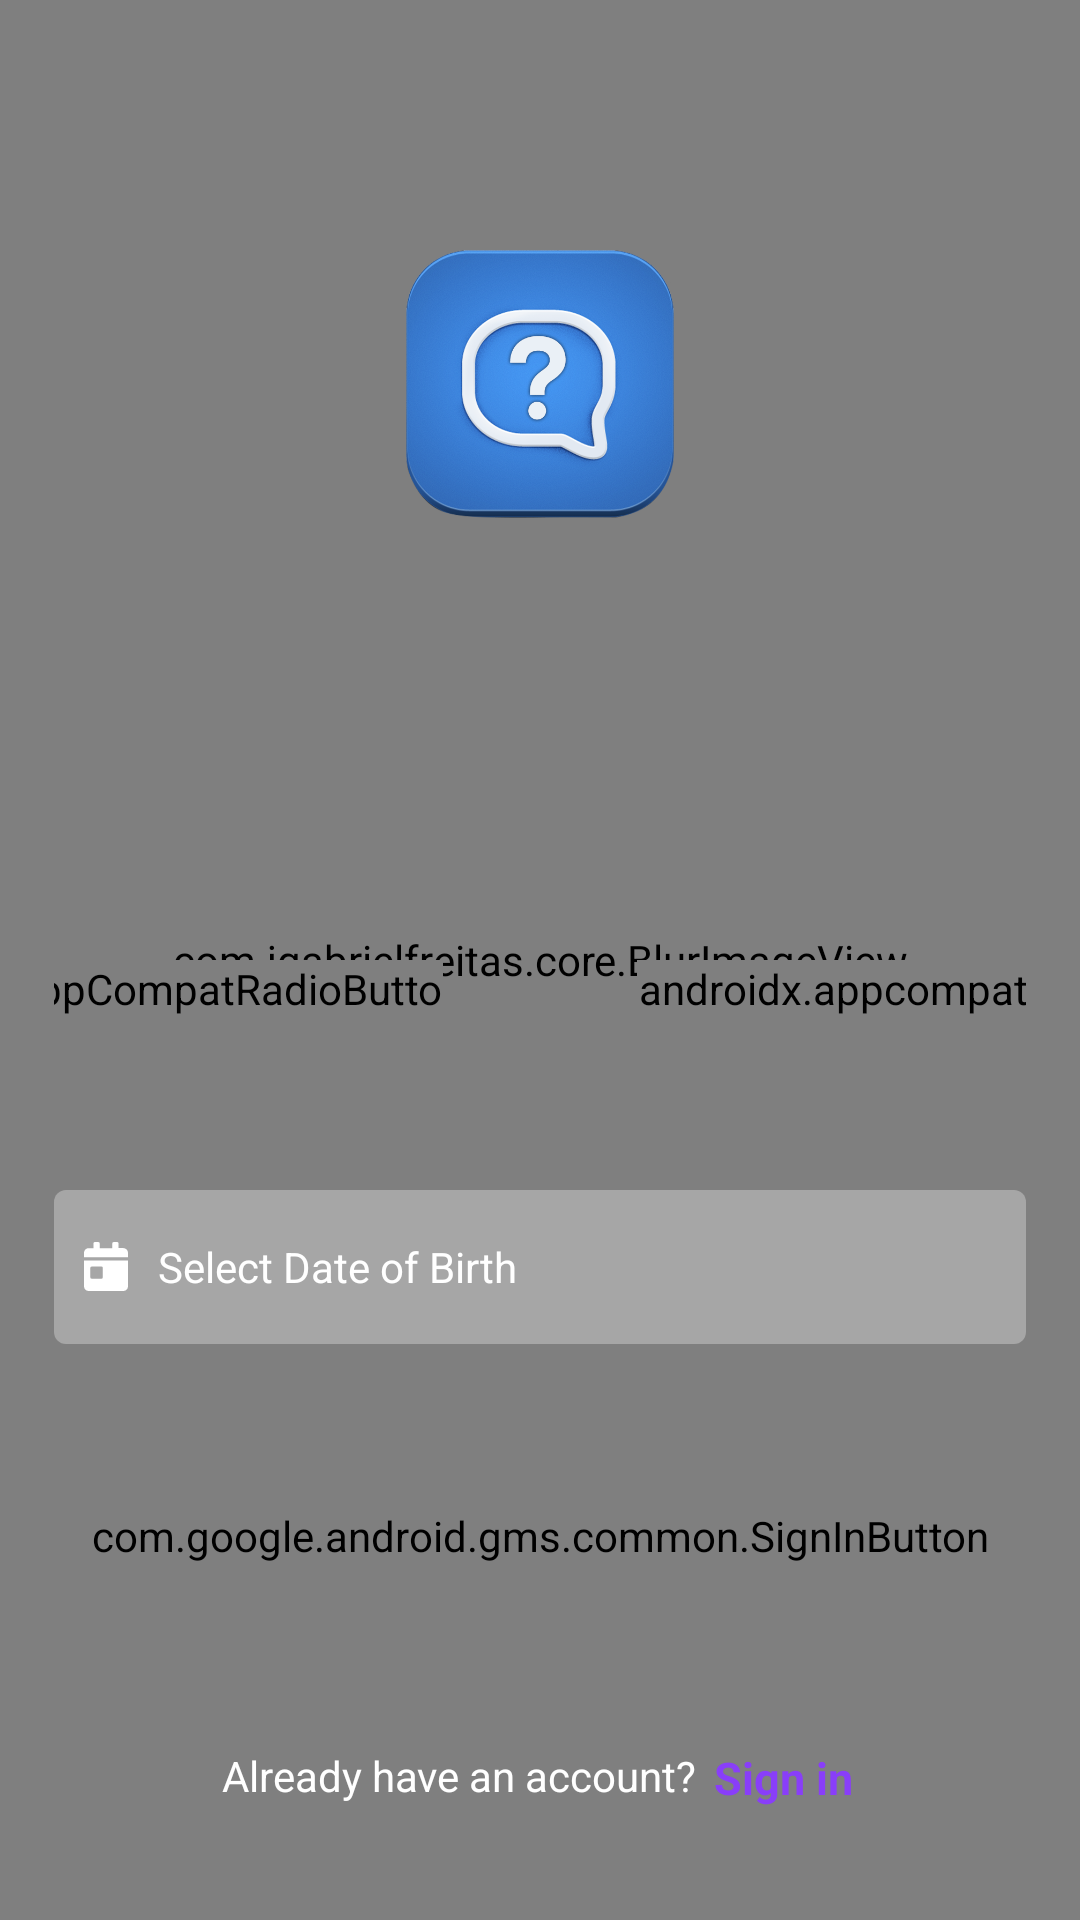

Icon bounding boxes for this 1080 x 1920 phone screenshot, format box=[x1, y1, x2, y2]:
app: box=[406, 250, 674, 518]
